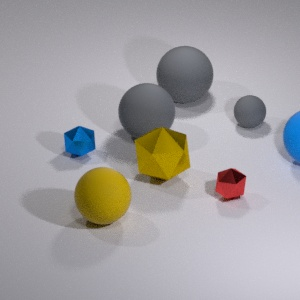lucgiac: (133, 127, 190, 183), (209, 160, 250, 201), (64, 126, 94, 157)
tron: (66, 163, 133, 231), (149, 42, 216, 106), (110, 82, 174, 141), (230, 90, 268, 129), (280, 109, 300, 166), (99, 163, 101, 168)
